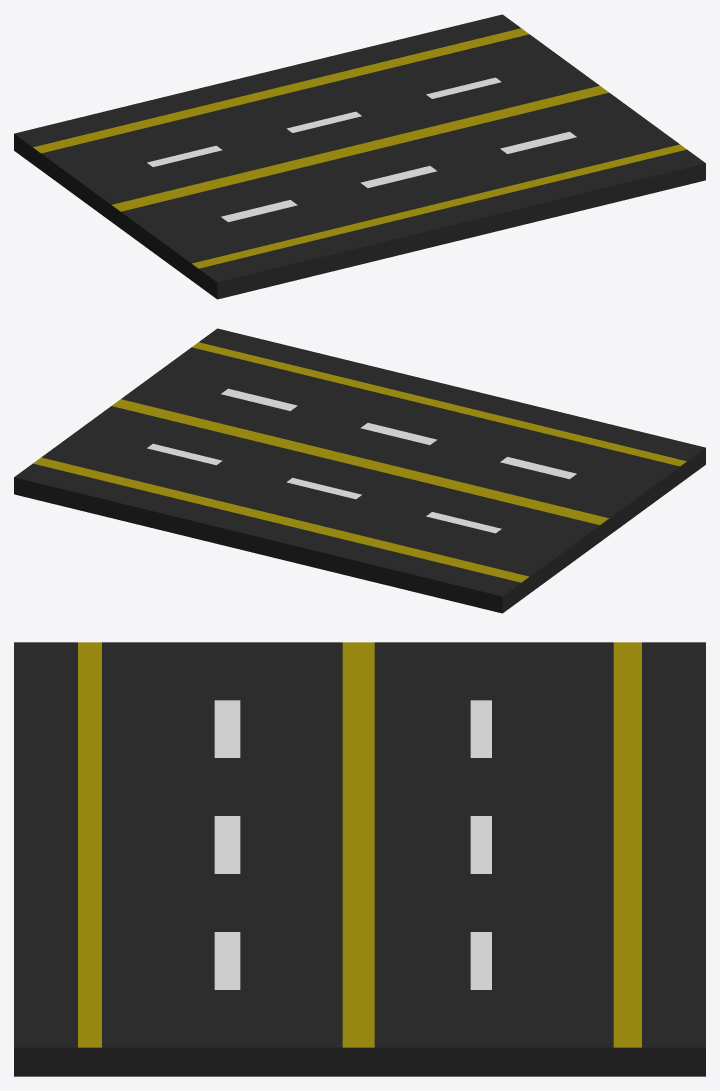
The model's file is Road 4 Lane.fbx.
3 views of the same model, one above another, from view 1: azimuth 30°, elevation 25°; view 2: azimuth 150°, elevation 25°; view 3: azimuth 270°, elevation 25° (orthographic). The views are drawn at different scales.
Visible parts, largest first — view 1: Road; view 2: Road; view 3: Road.
Boxes of the visible parts, <box> form: Road: <box>14,14,705,299</box>; Road: <box>14,328,705,613</box>; Road: <box>14,642,705,1076</box>.
Bounding box in the file's own units: 6000 × 200 × 4327.
